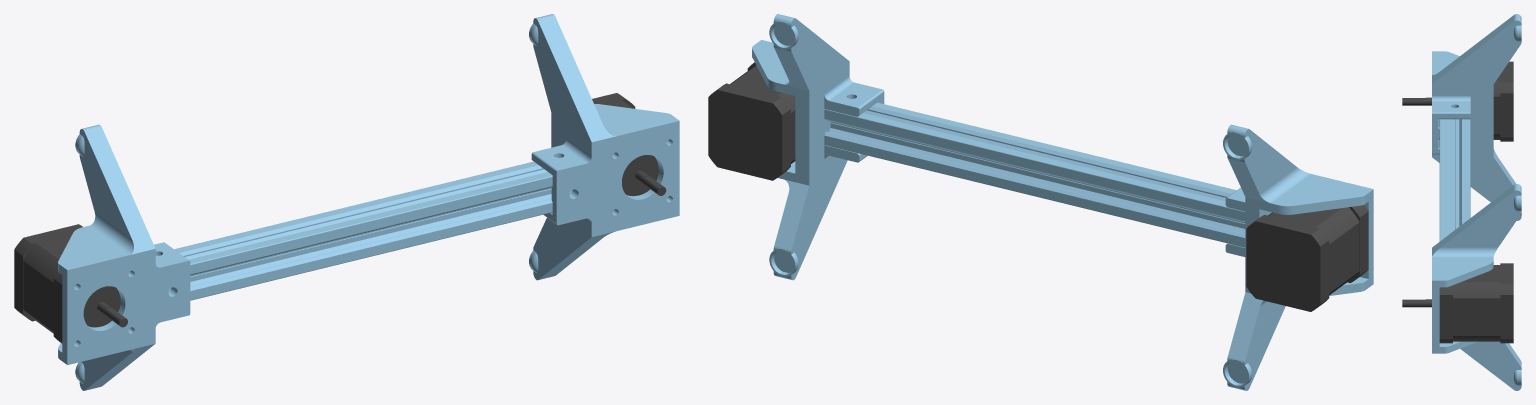
File: feet.obj
3 views of the same model, side by side, from view 1: azimuth 30°, elevation 25°; view 2: azimuth 150°, elevation 25°; view 3: azimuth 270°, elevation 25° (orthographic). The views are drawn at different scales.
Visible parts, largest first — view 1: mesh54, mesh73, mesh103, mesh86, mesh11, mesh30, mesh111, mesh145, mesh88, mesh89, mesh170, mesh27 (+15 smaller); view 2: mesh195, mesh73, mesh120, mesh137, mesh26, mesh122, mesh123, mesh145, mesh119, mesh111, mesh28, mesh10 (+20 smaller); view 3: mesh73, mesh188, mesh9, mesh35, mesh202, mesh15, mesh111, mesh187, mesh145, mesh12, mesh21, mesh158 (+22 smaller).
Boxes of the visible parts, box(x1,y1,x2,y2) form: mesh54: box(67, 121, 679, 364); mesh73: box(533, 18, 591, 280); mesh103: box(190, 177, 552, 274); mesh86: box(190, 203, 552, 299); mesh11: box(85, 17, 616, 390); mesh30: box(85, 128, 614, 279); mesh111: box(188, 172, 552, 263); mesh145: box(174, 161, 538, 252); mesh88: box(190, 189, 551, 281); mesh89: box(169, 191, 571, 290); mesh170: box(83, 155, 658, 326); mesh27: box(58, 226, 128, 270); mesh195: box(708, 90, 1320, 311); mesh73: box(791, 18, 849, 280); mesh120: box(824, 135, 1245, 246); mesh137: box(824, 110, 1245, 221); mesh26: box(777, 83, 1277, 293); mesh122: box(830, 123, 1245, 228); mesh123: box(829, 128, 1245, 233); mesh145: box(858, 113, 1226, 206); mesh119: box(824, 132, 1245, 237); mesh111: box(872, 102, 1236, 193); mesh28: box(774, 158, 1268, 249); mesh10: box(774, 48, 1263, 360); mesh73: box(1432, 20, 1521, 220); mesh188: box(1453, 96, 1500, 335); mesh9: box(1441, 190, 1521, 247); mesh35: box(1460, 341, 1521, 390); mesh202: box(1500, 93, 1513, 339); mesh15: box(1432, 257, 1493, 280); mesh111: box(1440, 119, 1447, 240); mesh187: box(1453, 81, 1500, 298); mesh145: box(1462, 119, 1469, 224); mesh12: box(1432, 247, 1497, 257); mesh21: box(1432, 280, 1444, 353); mesh158: box(1439, 295, 1452, 339).
Bounding box in the file's own units: 0.351 × 0.1431 × 0.077.
